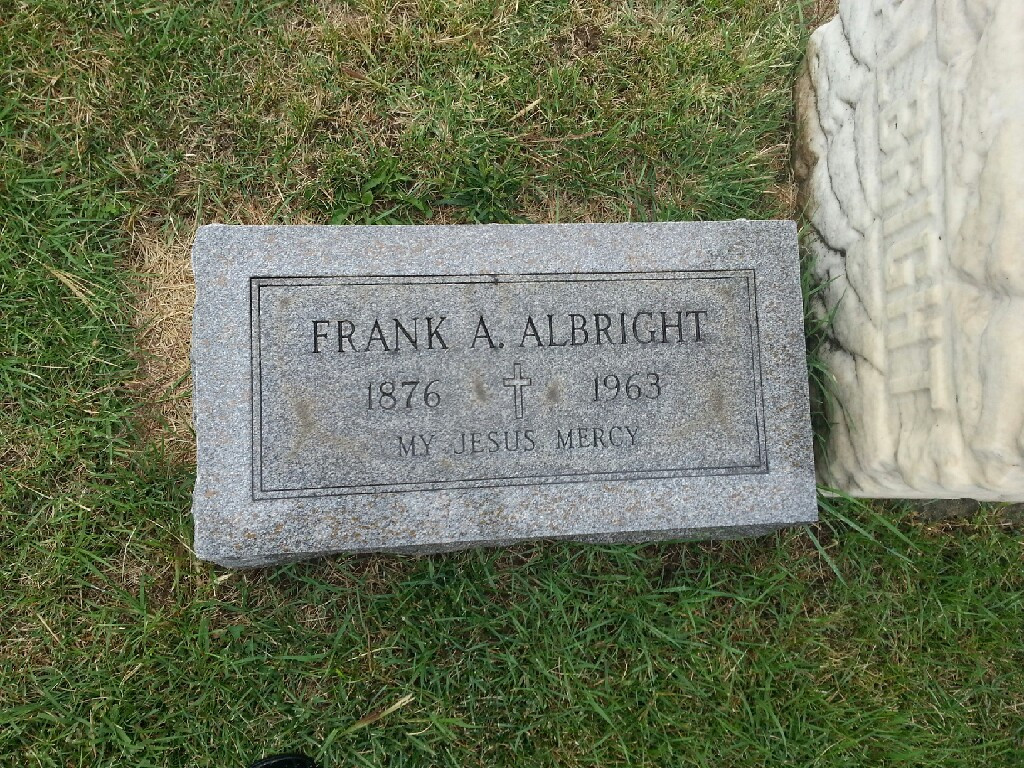flat: (164, 204, 855, 586)
